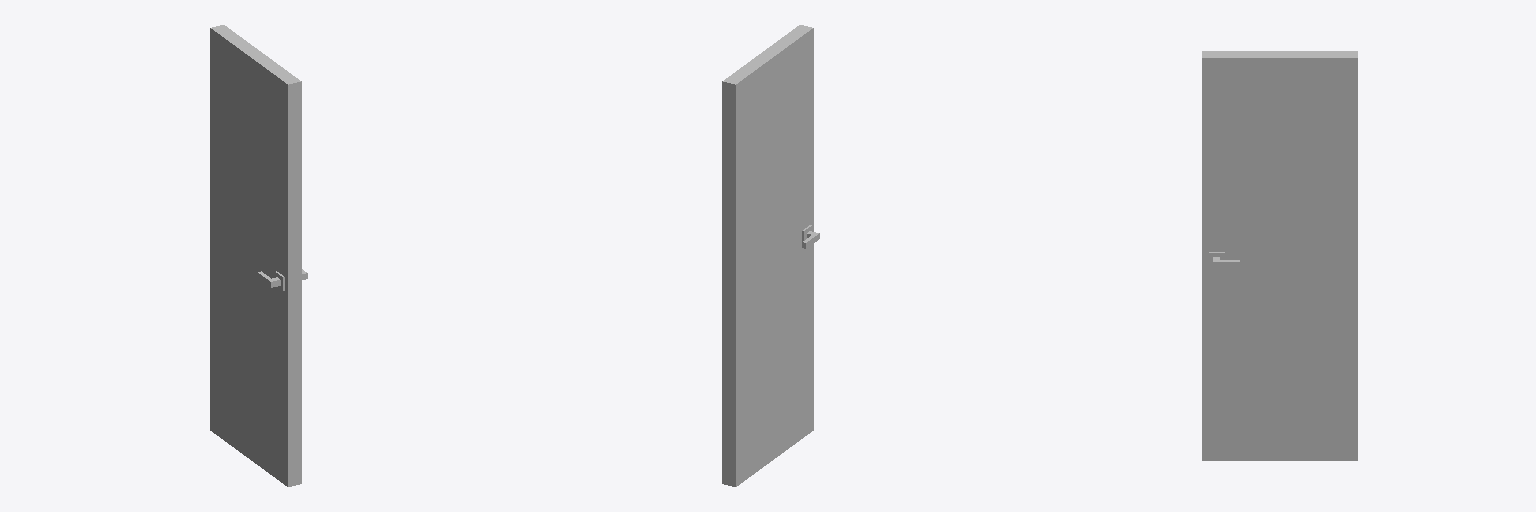
The model's file is door702_white.obj.
3 views of the same model, side by side, from view 1: azimuth 30°, elevation 25°; view 2: azimuth 150°, elevation 25°; view 3: azimuth 270°, elevation 25° (orthographic).
Parts seen in each view (by area): view 1: Cube; view 2: Cube; view 3: Cube.
Part boxes in pixels (bbox=[...]): Cube: bbox=[210, 25, 307, 486]; Cube: bbox=[722, 25, 819, 486]; Cube: bbox=[1202, 51, 1357, 460].
Size of the model in its own units: 0.1899 by 2 by 0.6998.